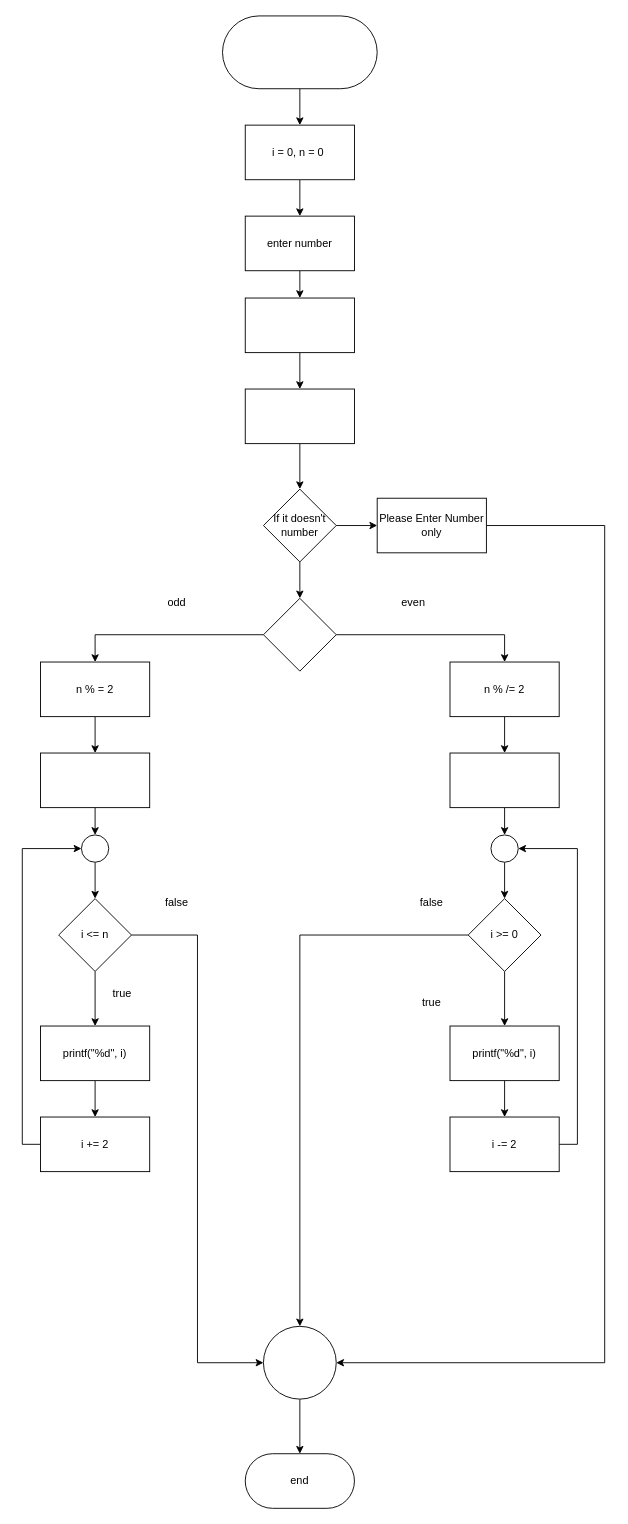
Some shapes in this 628 by 1524 pixel diagram are drawn without their labels. The shapes that lost their labels are listed below. From the top down, each one's box as (x1, y1, x2, y2) in pixels, then its label:
(222, 15, 377, 89): start
(244, 297, 354, 353): scanf "%d",n
(244, 388, 354, 444): Series :
(263, 597, 336, 671): are that number is odd or even
(40, 752, 150, 808): int i = 1
(449, 752, 559, 808): int i = n
